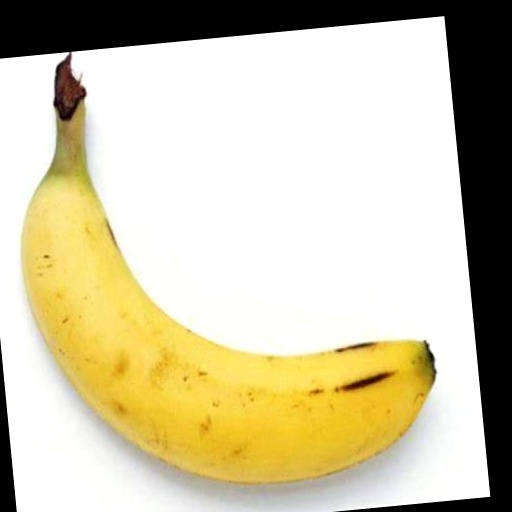fruit: (21, 56, 434, 483)
